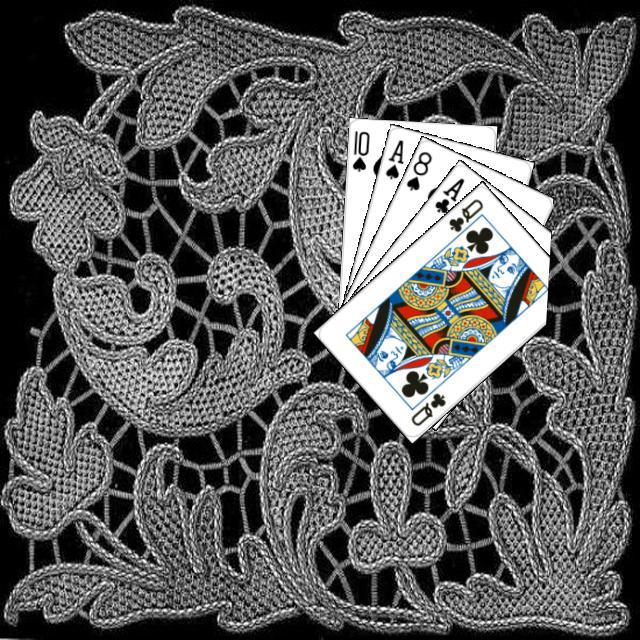10s: (347, 126, 371, 173)
8s: (401, 146, 433, 192)
Ac: (429, 173, 466, 215)
As: (380, 135, 405, 181)
Qc: (443, 194, 486, 242), (406, 388, 447, 428)
